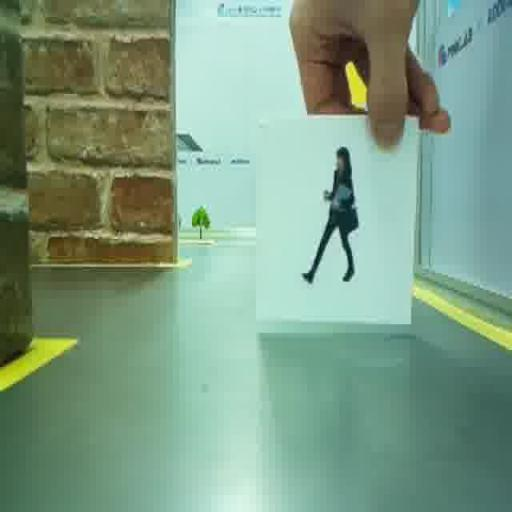human: (302, 146, 358, 283)
